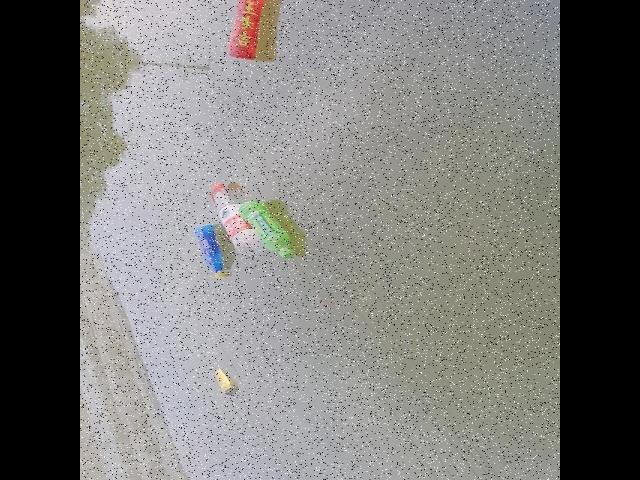Bottle: (232, 169, 302, 259), (202, 167, 254, 259), (220, 0, 280, 76), (186, 217, 226, 289)
Can: (208, 364, 238, 398)
